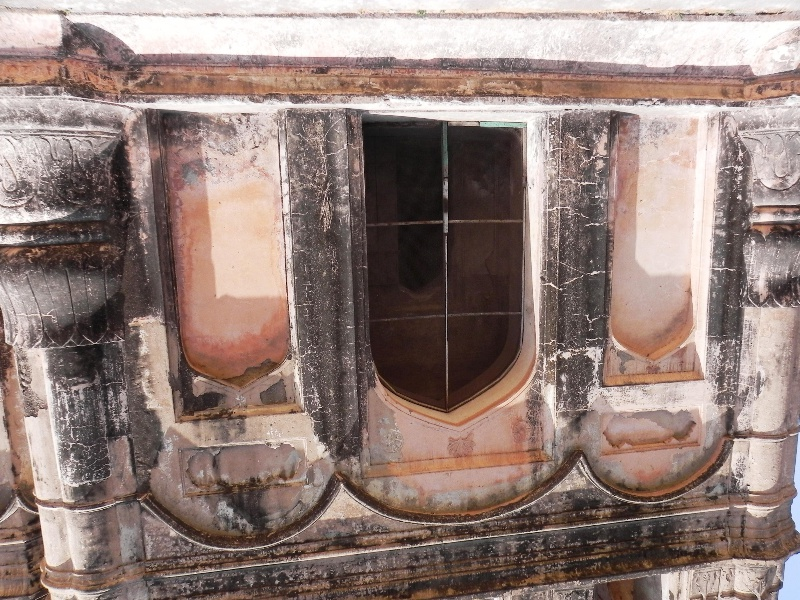Spalling: (257, 373, 290, 411)
